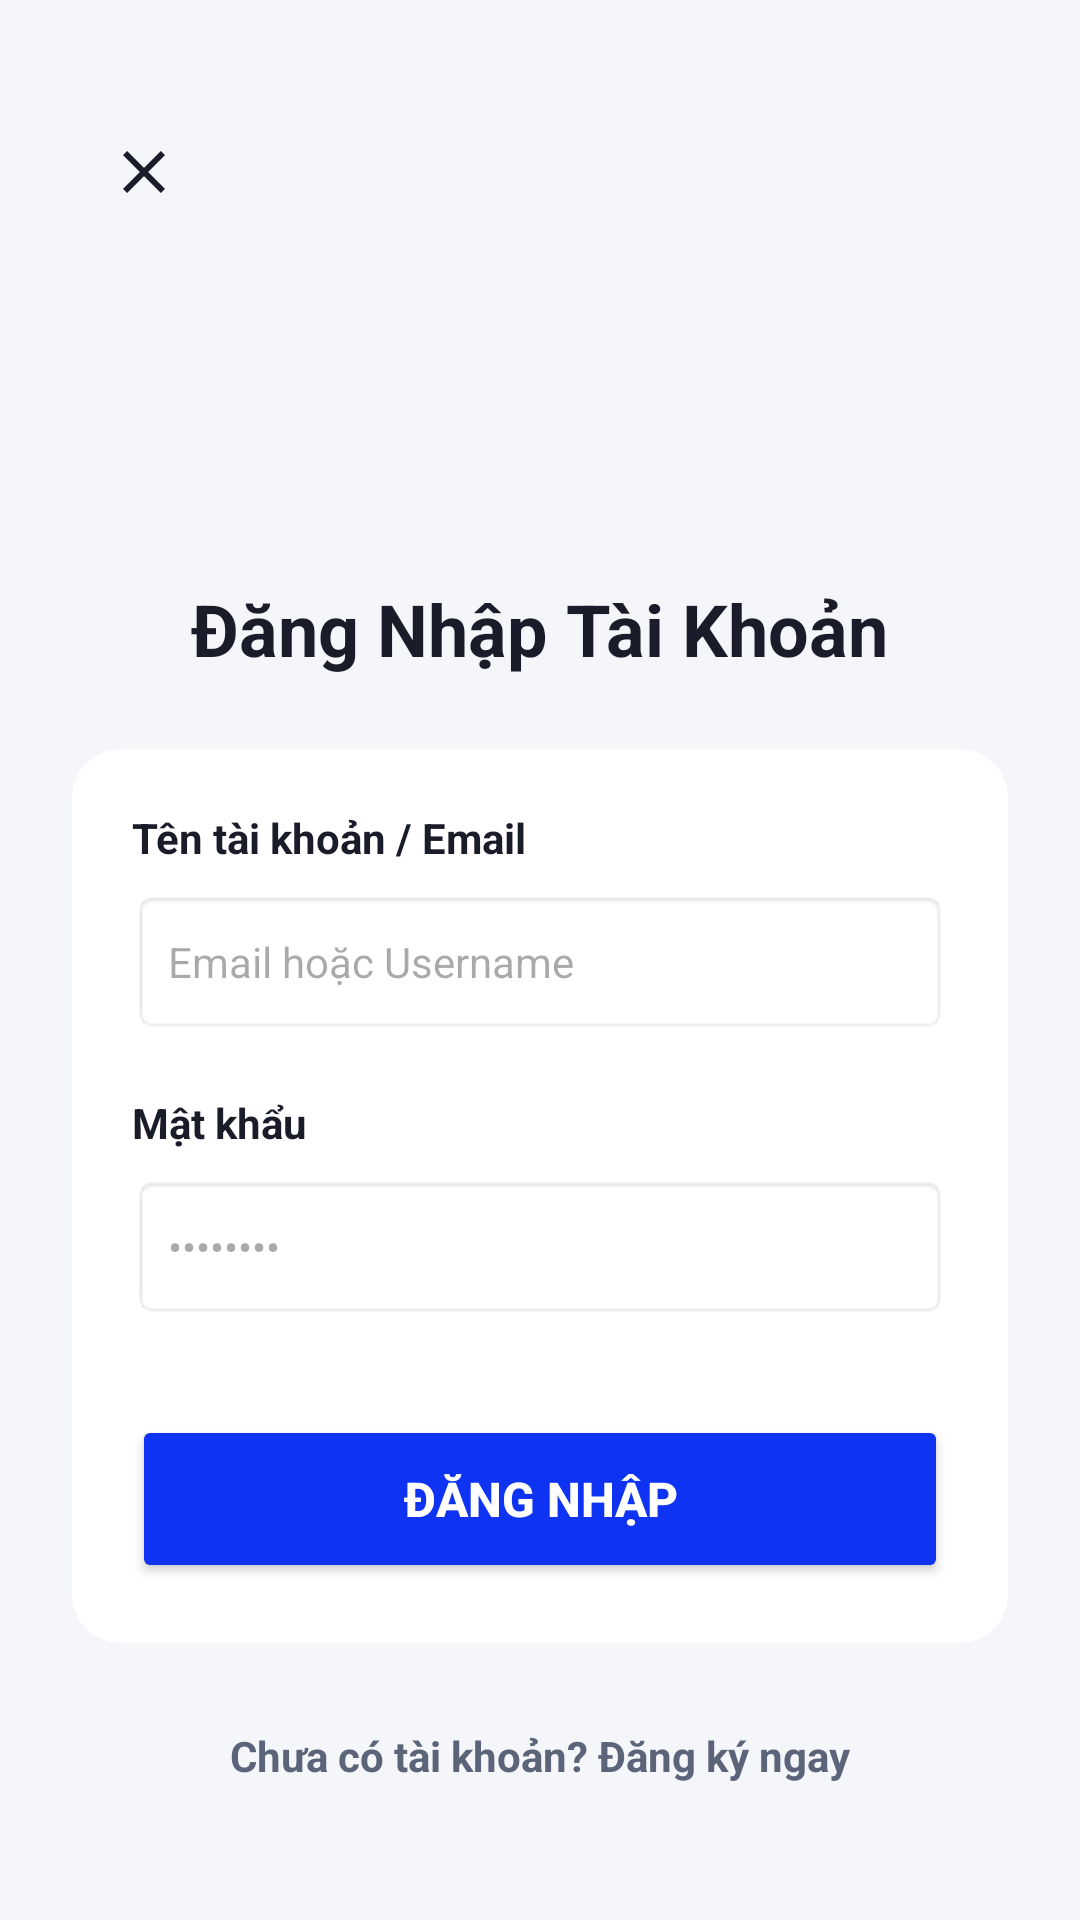

Named icons in this screenshot (1080*1920) and their bounding boxes, region(x1, y1, x2, y2):
Close: region(123, 151, 165, 193)
